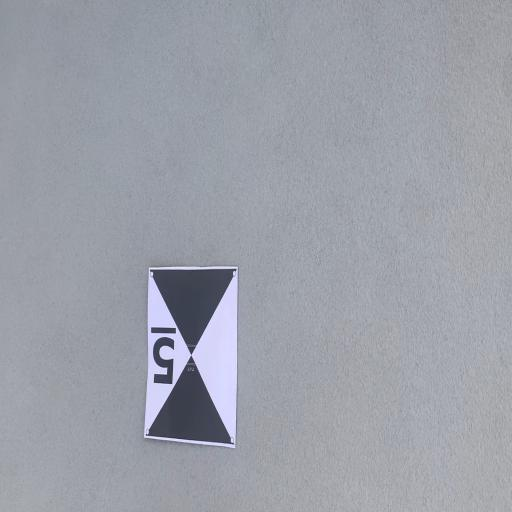target5: (144, 267, 238, 448)
